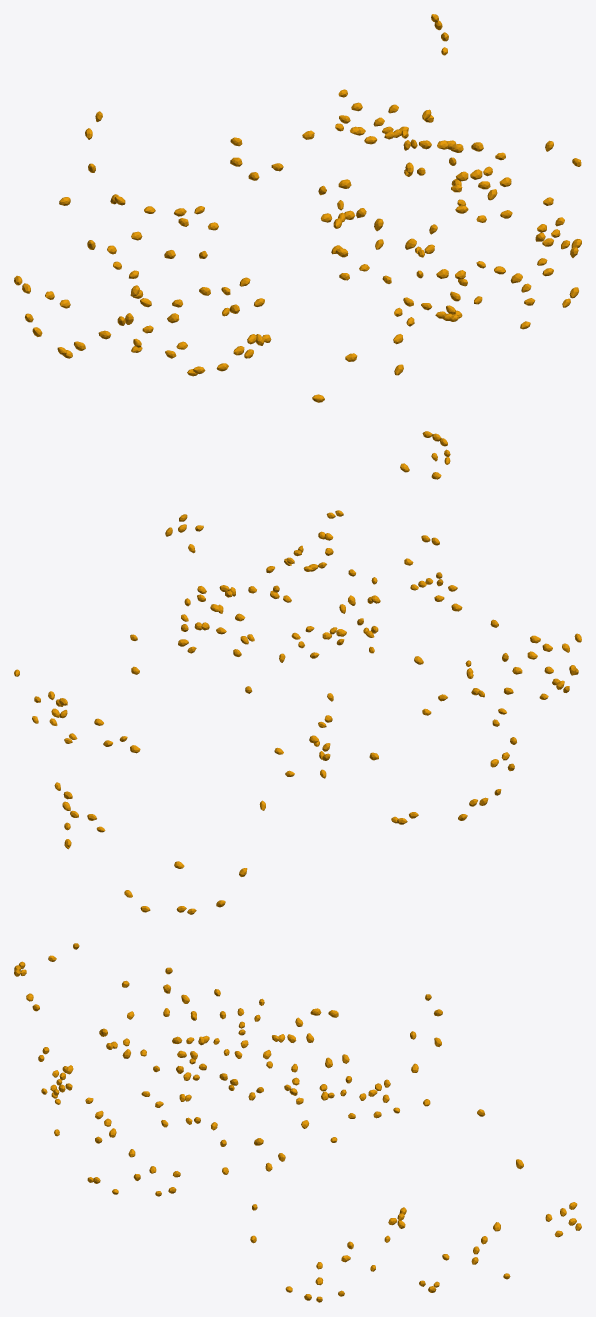
Rendered from mangoesonly.gltf.
3 views of the same model, one above another, from view 1: azimuth 30°, elevation 25°; view 2: azimuth 150°, elevation 25°; view 3: azimuth 270°, elevation 25° (orthographic). The views are drawn at different scales.
Parts seen in each view (by area): view 1: MangoScaled.004; view 2: MangoScaled.004; view 3: MangoScaled.004.
Boxes of the visible parts, bbox=[...] form: MangoScaled.004: bbox=[14, 14, 581, 402]; MangoScaled.004: bbox=[14, 431, 581, 914]; MangoScaled.004: bbox=[14, 943, 581, 1302].
Bounding box in the file's own units: 45.04 × 27.22 × 47.36.
